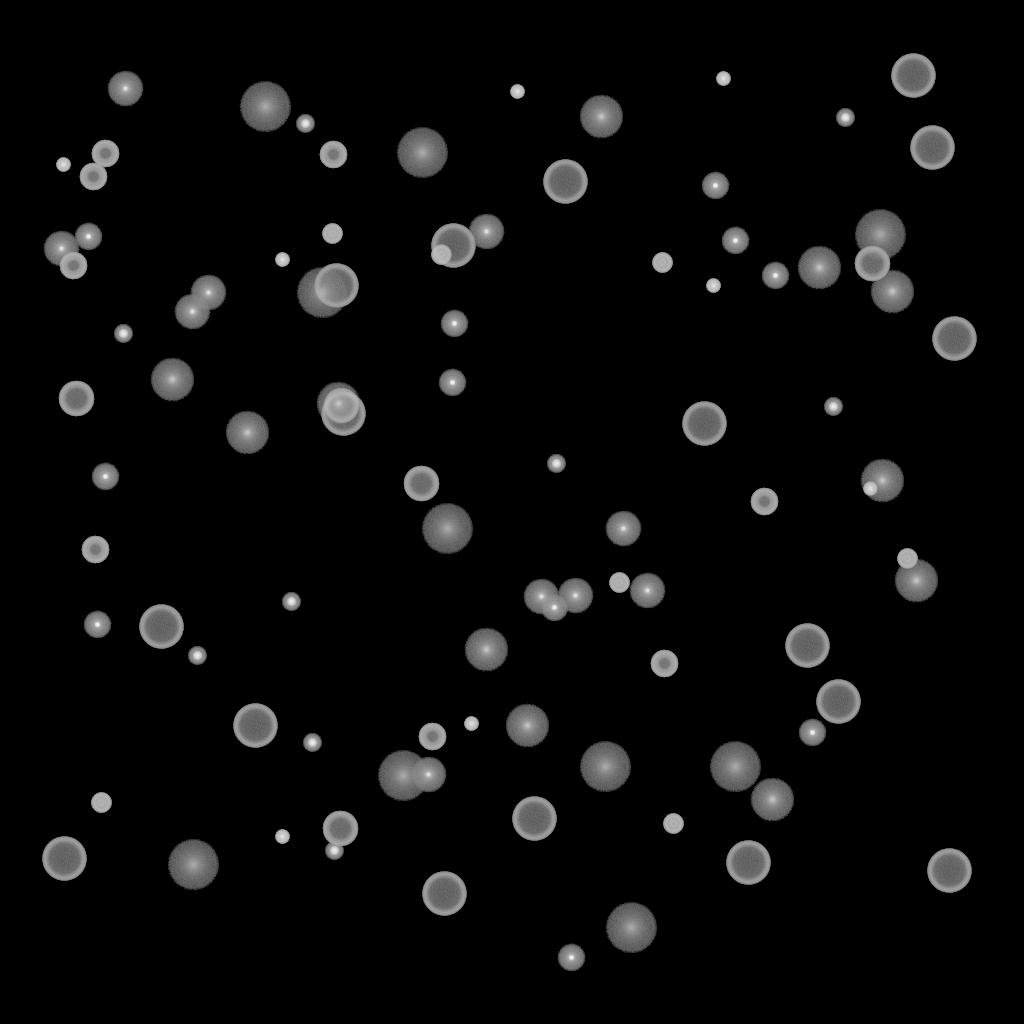depth:-10: (701, 172, 729, 200), (557, 944, 585, 972), (761, 262, 789, 290), (91, 463, 119, 491), (721, 227, 749, 255), (438, 369, 466, 397), (74, 223, 102, 251), (540, 594, 568, 622), (798, 719, 826, 747), (440, 310, 468, 338), (83, 611, 111, 639)
depth:-20: (188, 647, 206, 665), (114, 325, 132, 343), (824, 398, 842, 416), (282, 593, 300, 611), (836, 109, 854, 127), (296, 115, 314, 133), (325, 842, 343, 860), (547, 455, 565, 473), (303, 734, 321, 752)
depth:-30: (716, 72, 730, 86), (863, 482, 877, 496), (464, 717, 478, 731), (56, 158, 70, 172), (275, 253, 289, 267), (510, 85, 524, 99), (706, 279, 720, 293), (275, 830, 289, 844)
depth:-40: (652, 253, 672, 273), (431, 245, 451, 265), (609, 573, 629, 593), (322, 224, 342, 244), (897, 549, 917, 569), (663, 814, 683, 834), (91, 793, 111, 813)
depth:-50: (79, 163, 107, 191), (319, 141, 347, 169), (81, 536, 109, 564), (91, 140, 119, 168), (750, 488, 778, 516), (418, 723, 446, 751), (59, 252, 87, 280), (650, 650, 678, 678)
depth:-60: (322, 811, 358, 847), (58, 381, 94, 417), (854, 246, 890, 282), (403, 466, 439, 502), (323, 388, 359, 424)
depth:-70: (682, 402, 726, 446), (891, 54, 935, 98), (816, 680, 860, 724), (910, 126, 954, 170), (139, 605, 183, 649), (927, 849, 971, 893), (431, 224, 475, 268), (785, 624, 829, 668), (233, 704, 277, 748), (932, 317, 976, 361), (321, 392, 365, 436), (314, 264, 358, 308), (42, 837, 86, 881), (543, 160, 587, 204), (726, 841, 770, 885), (422, 872, 466, 916), (512, 797, 556, 841)
depth:0: (629, 573, 665, 609), (410, 757, 446, 793), (468, 214, 504, 250), (605, 511, 641, 547), (523, 579, 559, 615), (174, 294, 210, 330), (107, 71, 143, 107), (557, 578, 593, 614), (190, 275, 226, 311), (43, 231, 79, 267)
depth:10: (870, 270, 914, 314), (316, 382, 360, 426), (150, 358, 194, 402), (894, 559, 938, 603), (225, 411, 269, 455), (579, 95, 623, 139), (505, 704, 549, 748), (860, 459, 904, 503), (750, 778, 794, 822), (797, 246, 841, 290), (464, 628, 508, 672)
depth:20: (296, 268, 348, 318), (167, 840, 219, 890), (709, 742, 761, 792), (239, 82, 291, 132), (421, 504, 473, 554), (605, 903, 657, 953), (579, 742, 631, 792), (396, 128, 448, 178), (854, 210, 906, 260), (377, 751, 429, 801)
